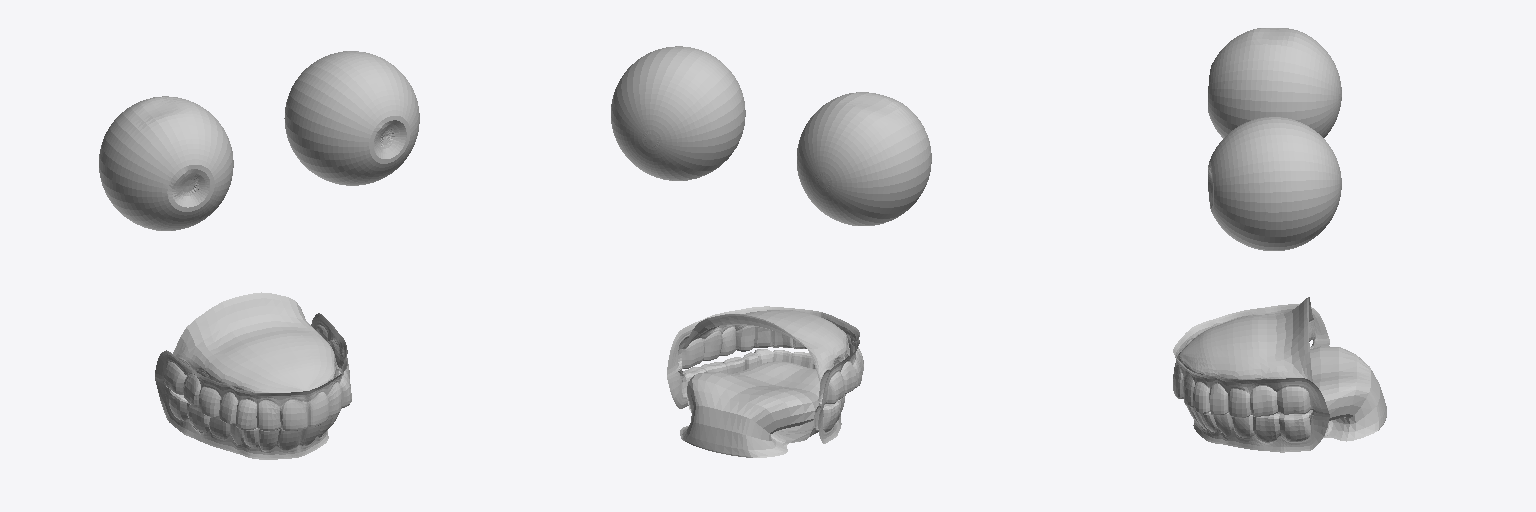
Rendered from Nurse Eyes and Mouth OBJ v1.OBJ.
3 renders of one model, left to right at view 1: azimuth 30°, elevation 25°; view 2: azimuth 150°, elevation 25°; view 3: azimuth 270°, elevation 25°, orthographic.
Parts seen in each view (by area): view 1: Group2, Group4, Group3; view 2: Group2, Group3, Group4; view 3: Group2, Group4, Group3.
Part boxes in pixels (x1,y1,x2,y2): Group2: (155,292,351,459); Group4: (284,51,419,185); Group3: (99,96,233,230); Group2: (667,306,863,457); Group3: (797,92,931,225); Group4: (611,46,745,180); Group2: (1173,297,1386,452); Group4: (1208,117,1341,250); Group3: (1208,28,1341,138).
Bounding box in the file's own units: 0.6605 × 0.7439 × 0.4058.